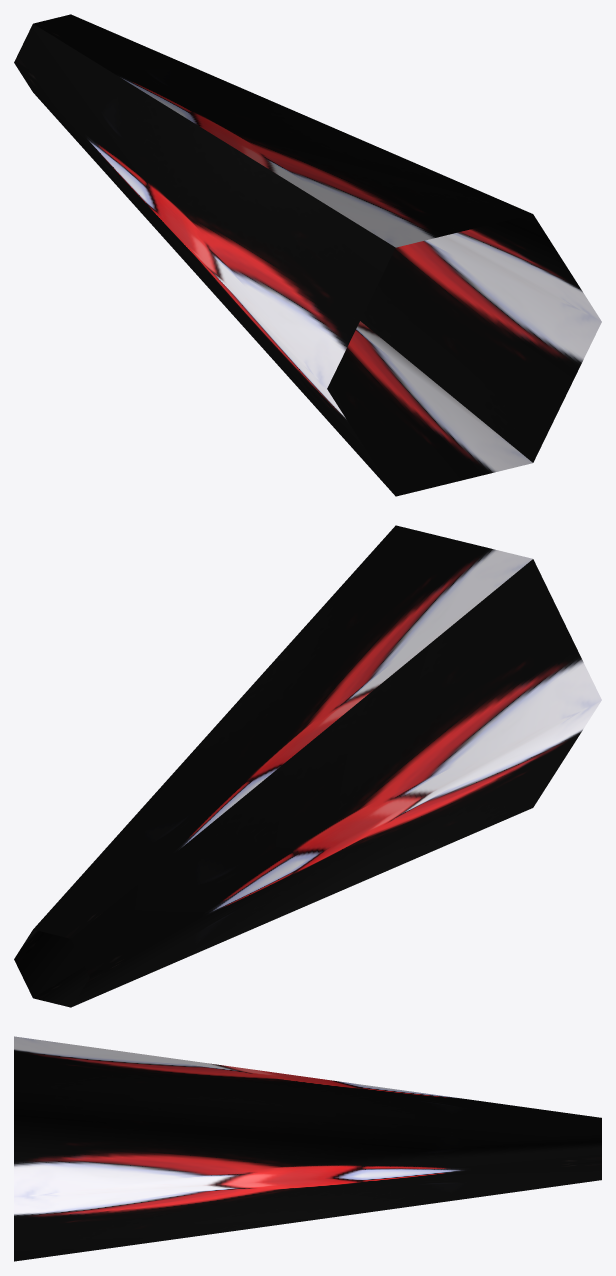
The model's file is datan_common_f163877d.obj.
3 renders of one model, top to bottom at view 1: azimuth 30°, elevation 25°; view 2: azimuth 150°, elevation 25°; view 3: azimuth 270°, elevation 25°, orthographic. The views are drawn at different scales.
Visible parts, largest first — view 1: datan_common_f163877d; view 2: datan_common_f163877d; view 3: datan_common_f163877d.
Part boxes in pixels (box(x1,y1,x2,y2)): datan_common_f163877d: box(14, 14, 601, 496); datan_common_f163877d: box(14, 525, 601, 1007); datan_common_f163877d: box(14, 1036, 601, 1261).
Bounding box in the file's own units: 1.36 × 1.18 × 3.54.
1 material, 1 textured.
